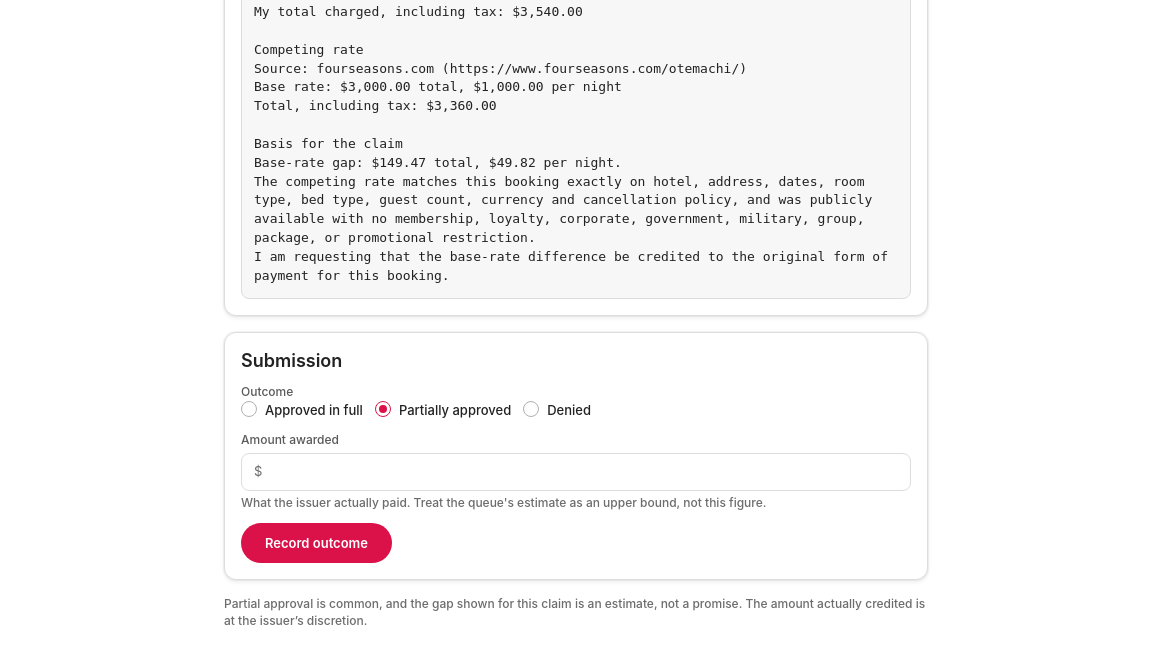
Test: <ClaimKit /> — §7.4 checklist-first order › records a denial with a structured code and the issuer’s exact words
This screenshot has width=1152, height=648.
(page scrolled)
Click the radio button named "Denied" next to "Denied".
click(531, 409)  # box [523,401,539,417]
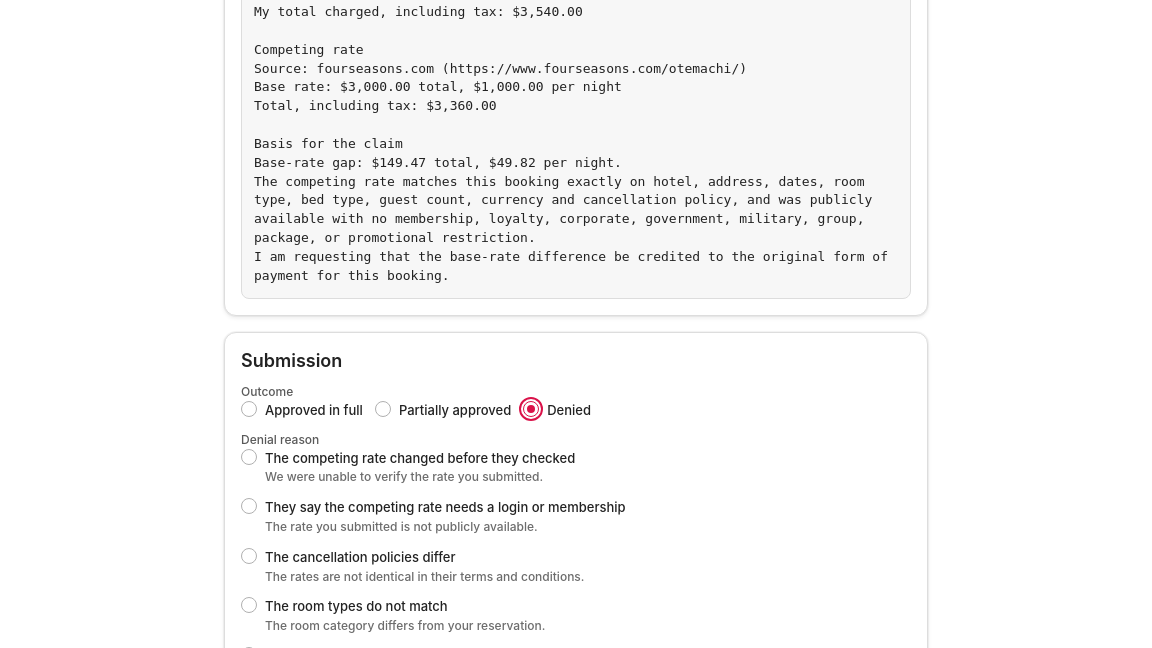
Click the 5th radio button named "They say the competing rate needs a login or membership".
click(249, 506)  # box [241,498,257,514]
(page scrolled)
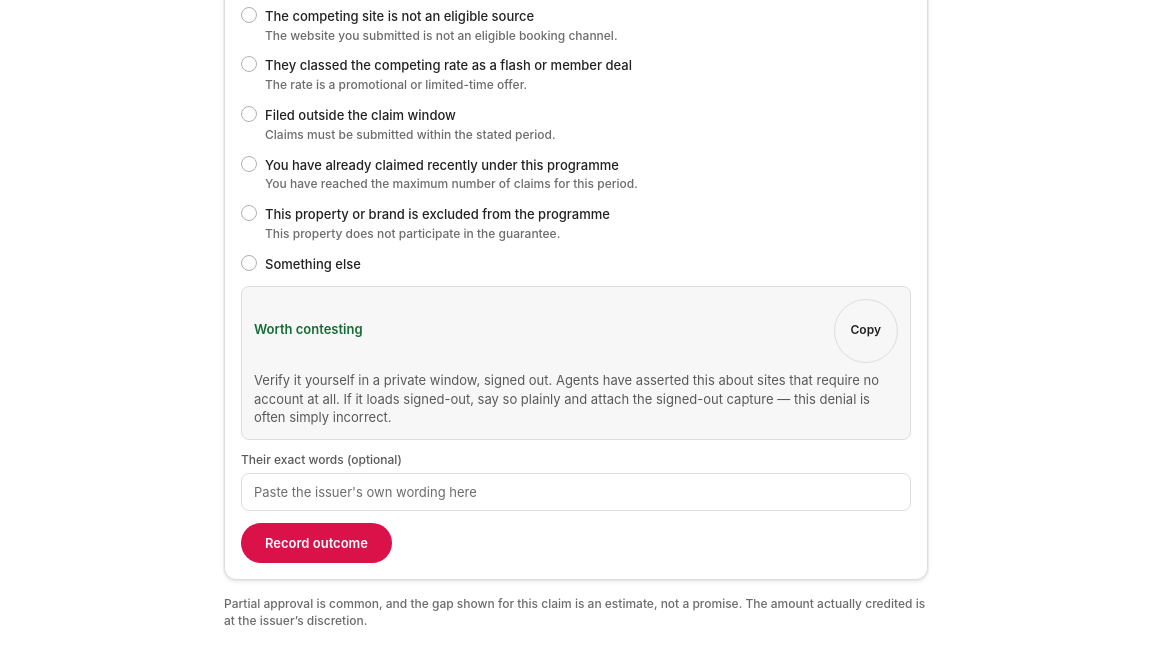
Type "Said it needed a login." into the field labelled "Their exact words (optional)".
click(576, 492); type("Said it needed a login.")  # box [254,474,898,510]
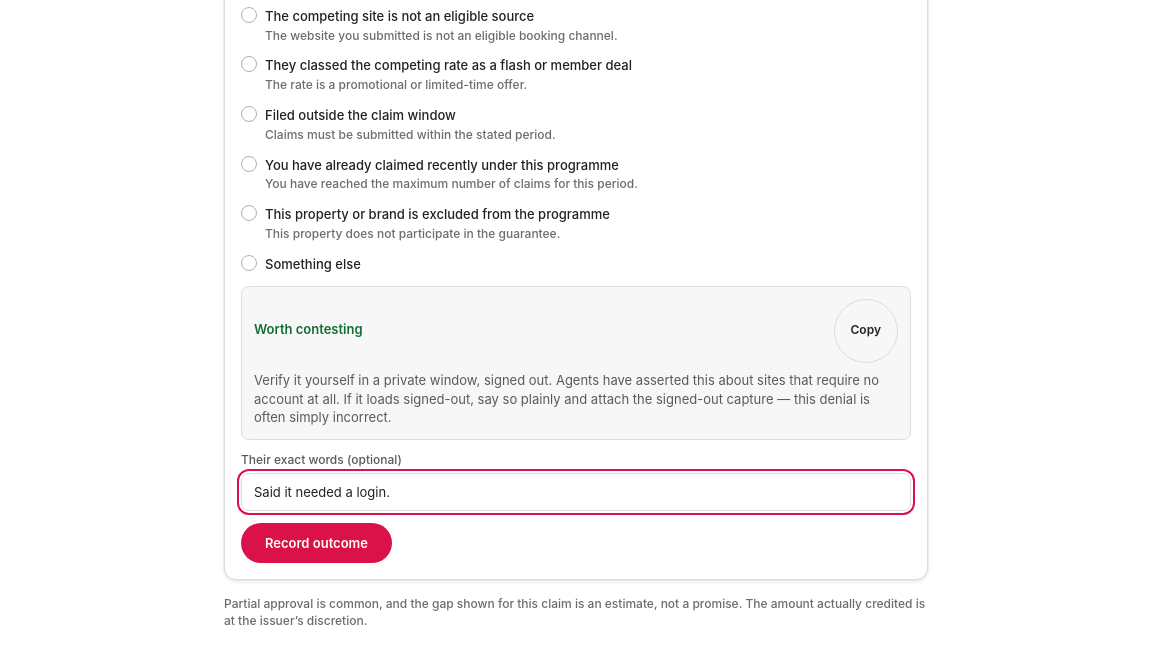
Click the button "Record outcome".
click(316, 543)  # box [241,523,392,563]
(page scrolled)
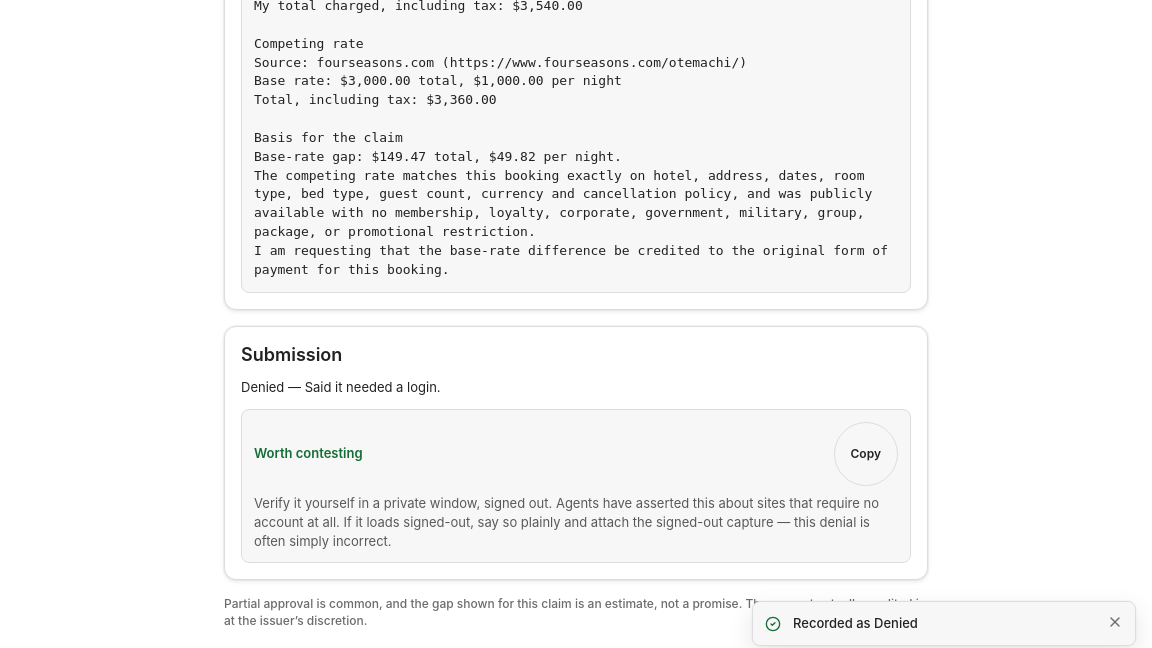
Check: the text "Denied — Said it needed a login." is shown, box [241,379,441,395]
